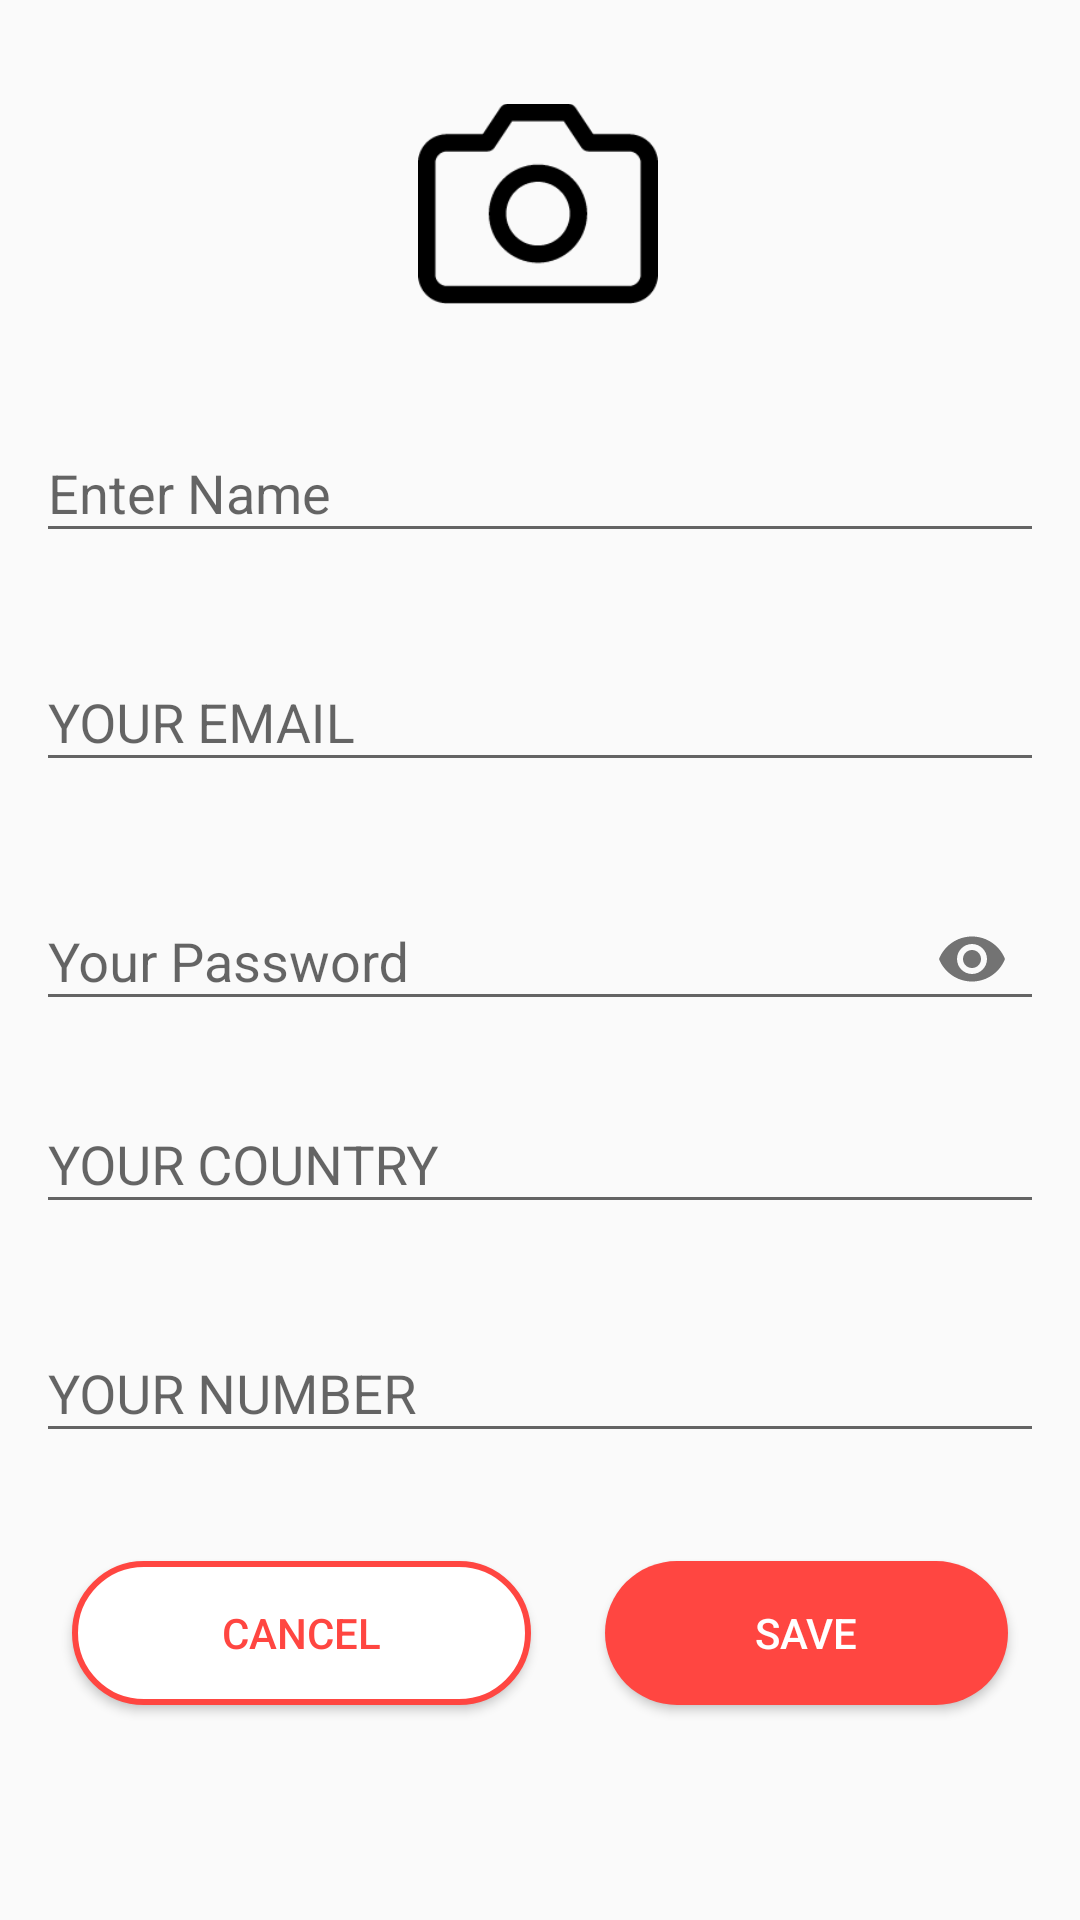

Icons on this 1080*1920 Android screen, each with its box as (x1, y1, x2, y2):
feather camera: (418, 104, 658, 304)
